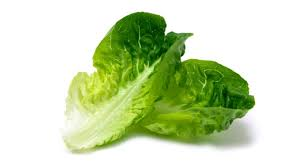lettuce: (64, 17, 250, 151)
